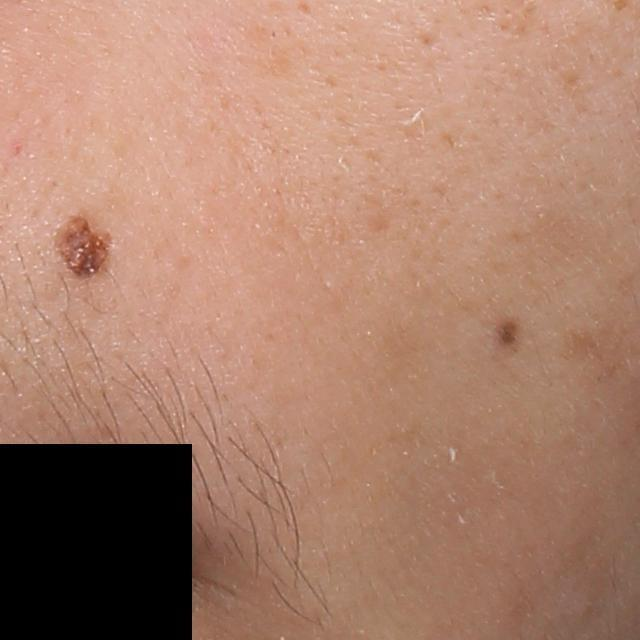nevus: (51, 209, 116, 286), (492, 318, 524, 354)
